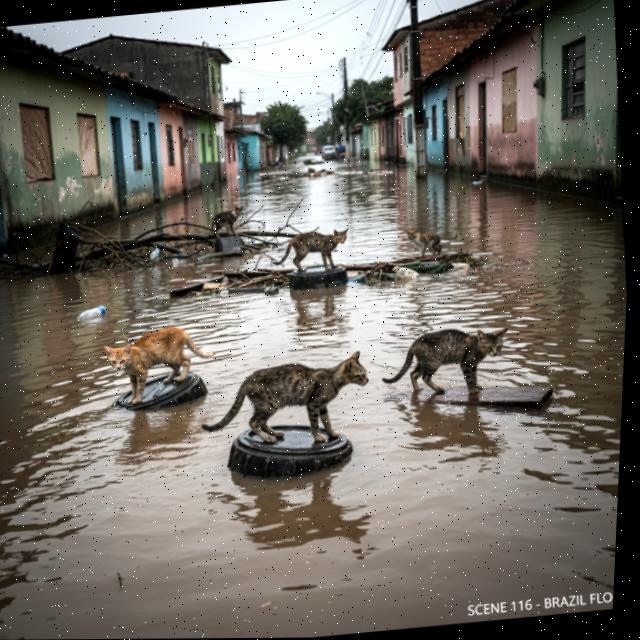cat: (187, 346, 384, 460), (369, 314, 520, 412), (94, 320, 227, 410), (266, 224, 360, 279), (205, 203, 248, 236)
